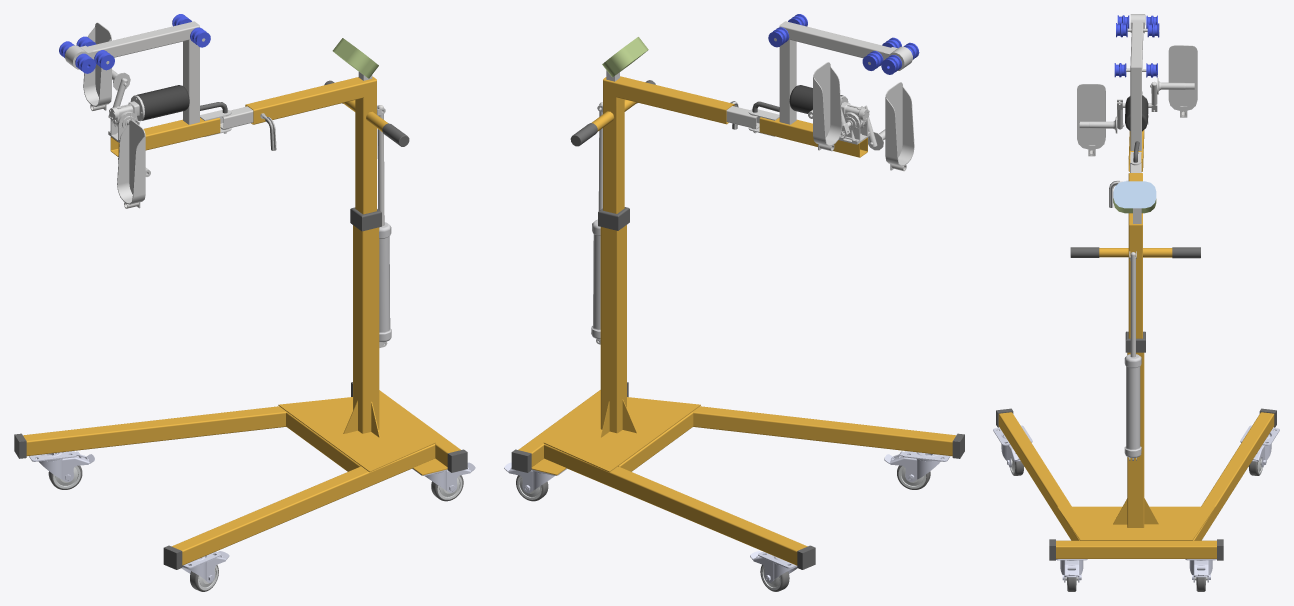
Rendered from CINESITERAPIA_E-P.glb.
3 renders of one model, left to right at view 1: azimuth 30°, elevation 25°; view 2: azimuth 150°, elevation 25°; view 3: azimuth 270°, elevation 25°, orthographic. The views are drawn at different scales.
Parts seen in each view (by area): view 1: Solid1:2, Solid1:1, Solid1:5, Solid1:4, Solid1:10, Solid1:9, Solid1:85, Solid1:49, Solid1:14, Solid1:45, Solid1:82, Solid1:50 (+7 smaller); view 2: Solid1:1, Solid1:2, Solid1:5, Solid1:4, Solid1:10, Solid1:9, Solid1:82, Solid1:85, Solid1:49, Solid1:14, Solid1:50, Solid1 (+5 smaller); view 3: Solid1:4, Solid1, Solid1:1, Solid1:2, Solid1:5, Solid1:82, Solid1:85, Solid1:45, Solid1:9, Solid1:66, Solid1:50, Solid1:46 (+4 smaller).
Part boxes in pixels (x1,y1,x2,y2): Solid1:2: [23, 406, 286, 456]; Solid1:1: [172, 444, 435, 565]; Solid1:5: [353, 225, 379, 433]; Solid1:4: [278, 397, 435, 472]; Solid1:10: [245, 76, 376, 124]; Solid1:9: [355, 81, 376, 214]; Solid1:85: [117, 120, 150, 204]; Solid1:49: [87, 21, 199, 59]; Solid1:14: [110, 118, 220, 156]; Solid1:45: [379, 222, 391, 344]; Solid1:82: [83, 22, 115, 106]; Solid1:50: [183, 27, 199, 124]; Solid1:1: [692, 406, 955, 456]; Solid1:2: [544, 444, 807, 565]; Solid1:5: [600, 225, 626, 433]; Solid1:4: [543, 397, 700, 472]; Solid1:10: [603, 76, 734, 124]; Solid1:9: [603, 80, 624, 213]; Solid1:82: [808, 62, 842, 146]; Solid1:85: [885, 82, 914, 166]; Solid1:49: [779, 21, 890, 60]; Solid1:14: [759, 117, 867, 157]; Solid1:50: [779, 26, 796, 124]; Solid1: [518, 390, 600, 466]; Solid1:4: [1057, 506, 1215, 540]; Solid1: [1056, 540, 1216, 558]; Solid1:1: [998, 412, 1079, 540]; Solid1:2: [1193, 412, 1274, 540]; Solid1:5: [1127, 352, 1144, 527]; Solid1:82: [1168, 45, 1197, 110]; Solid1:85: [1077, 84, 1105, 149]; Solid1:45: [1124, 354, 1141, 460]; Solid1:9: [1128, 225, 1142, 338]; Solid1:66: [1113, 181, 1156, 213]; Solid1:50: [1130, 67, 1141, 150]; Solid1:46: [1130, 252, 1135, 357].
Size of the model in its own units: 1.06 by 1.4 by 0.8331.
